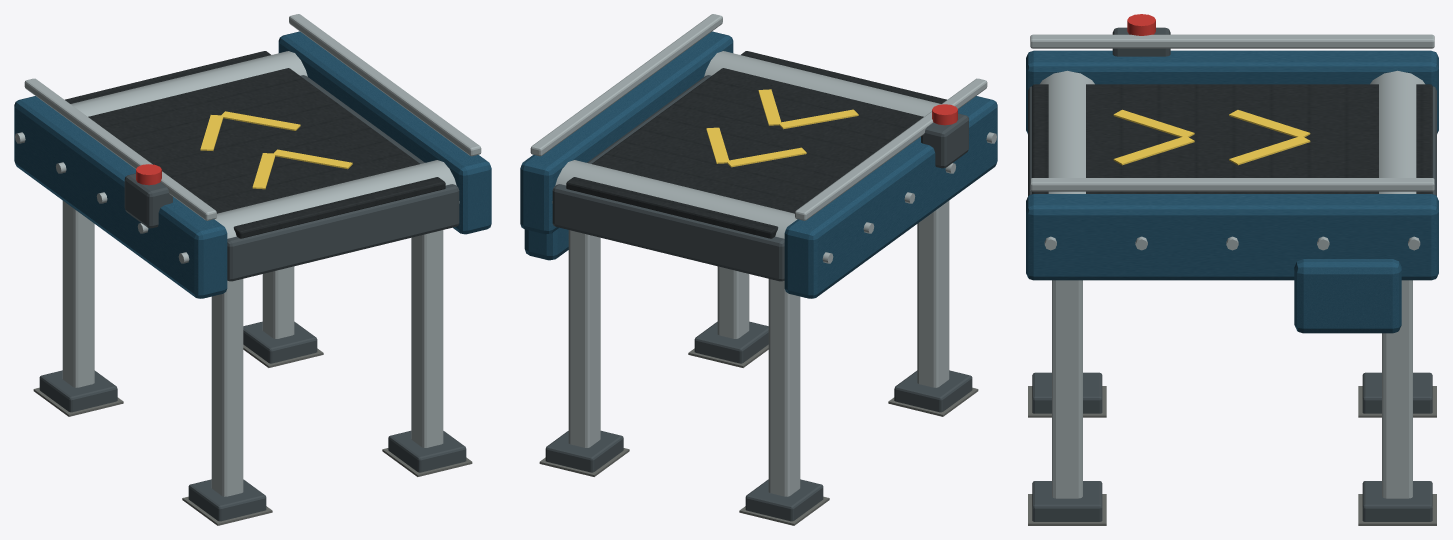
The model's file is conveyor.glb.
The picture shows the model from 3 angles, left to right: view 1: azimuth 30°, elevation 25°; view 2: azimuth 150°, elevation 25°; view 3: azimuth 270°, elevation 25°; orthographic projection. The views are drawn at different scales.
Visible parts, largest first — view 1: Brushed Steel, Rubber PBR, Blue Painted Steel PBR, Charcoal Metal, Safety Ochre, Opaque Contact Detail; view 2: Brushed Steel, Rubber PBR, Blue Painted Steel PBR, Charcoal Metal, Safety Ochre, Opaque Contact Detail; view 3: Blue Painted Steel PBR, Brushed Steel, Rubber PBR, Charcoal Metal, Safety Ochre, Opaque Contact Detail, Tail Red.
Boxes of the visible parts, bbox=[...] form: Brushed Steel: bbox=[15, 14, 481, 496]; Rubber PBR: bbox=[65, 51, 445, 238]; Blue Painted Steel PBR: bbox=[14, 31, 491, 298]; Charcoal Metal: bbox=[39, 75, 466, 521]; Safety Ochre: bbox=[200, 111, 352, 189]; Opaque Contact Detail: bbox=[33, 344, 472, 525]; Brushed Steel: bbox=[530, 14, 996, 496]; Rubber PBR: bbox=[566, 51, 946, 238]; Blue Painted Steel PBR: bbox=[520, 31, 997, 298]; Charcoal Metal: bbox=[545, 75, 972, 521]; Safety Ochre: bbox=[706, 89, 858, 167]; Opaque Contact Detail: bbox=[539, 344, 978, 525]; Blue Painted Steel PBR: bbox=[1026, 50, 1438, 333]; Brushed Steel: bbox=[1030, 34, 1434, 498]; Rubber PBR: bbox=[1032, 84, 1432, 193]; Charcoal Metal: bbox=[1028, 27, 1436, 521]; Safety Ochre: bbox=[1113, 109, 1310, 165]; Opaque Contact Detail: bbox=[1028, 386, 1436, 525]; Tail Red: bbox=[1127, 14, 1155, 35].
Bounding box in the file's own units: 0.99 × 0.959 × 1.
Materials: 7 (2 with a texture image).
